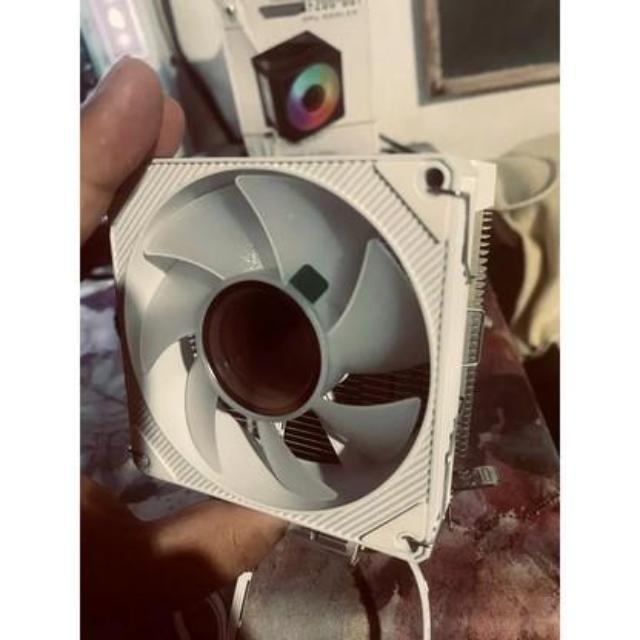CPU_Fan: (118, 153, 493, 555)
